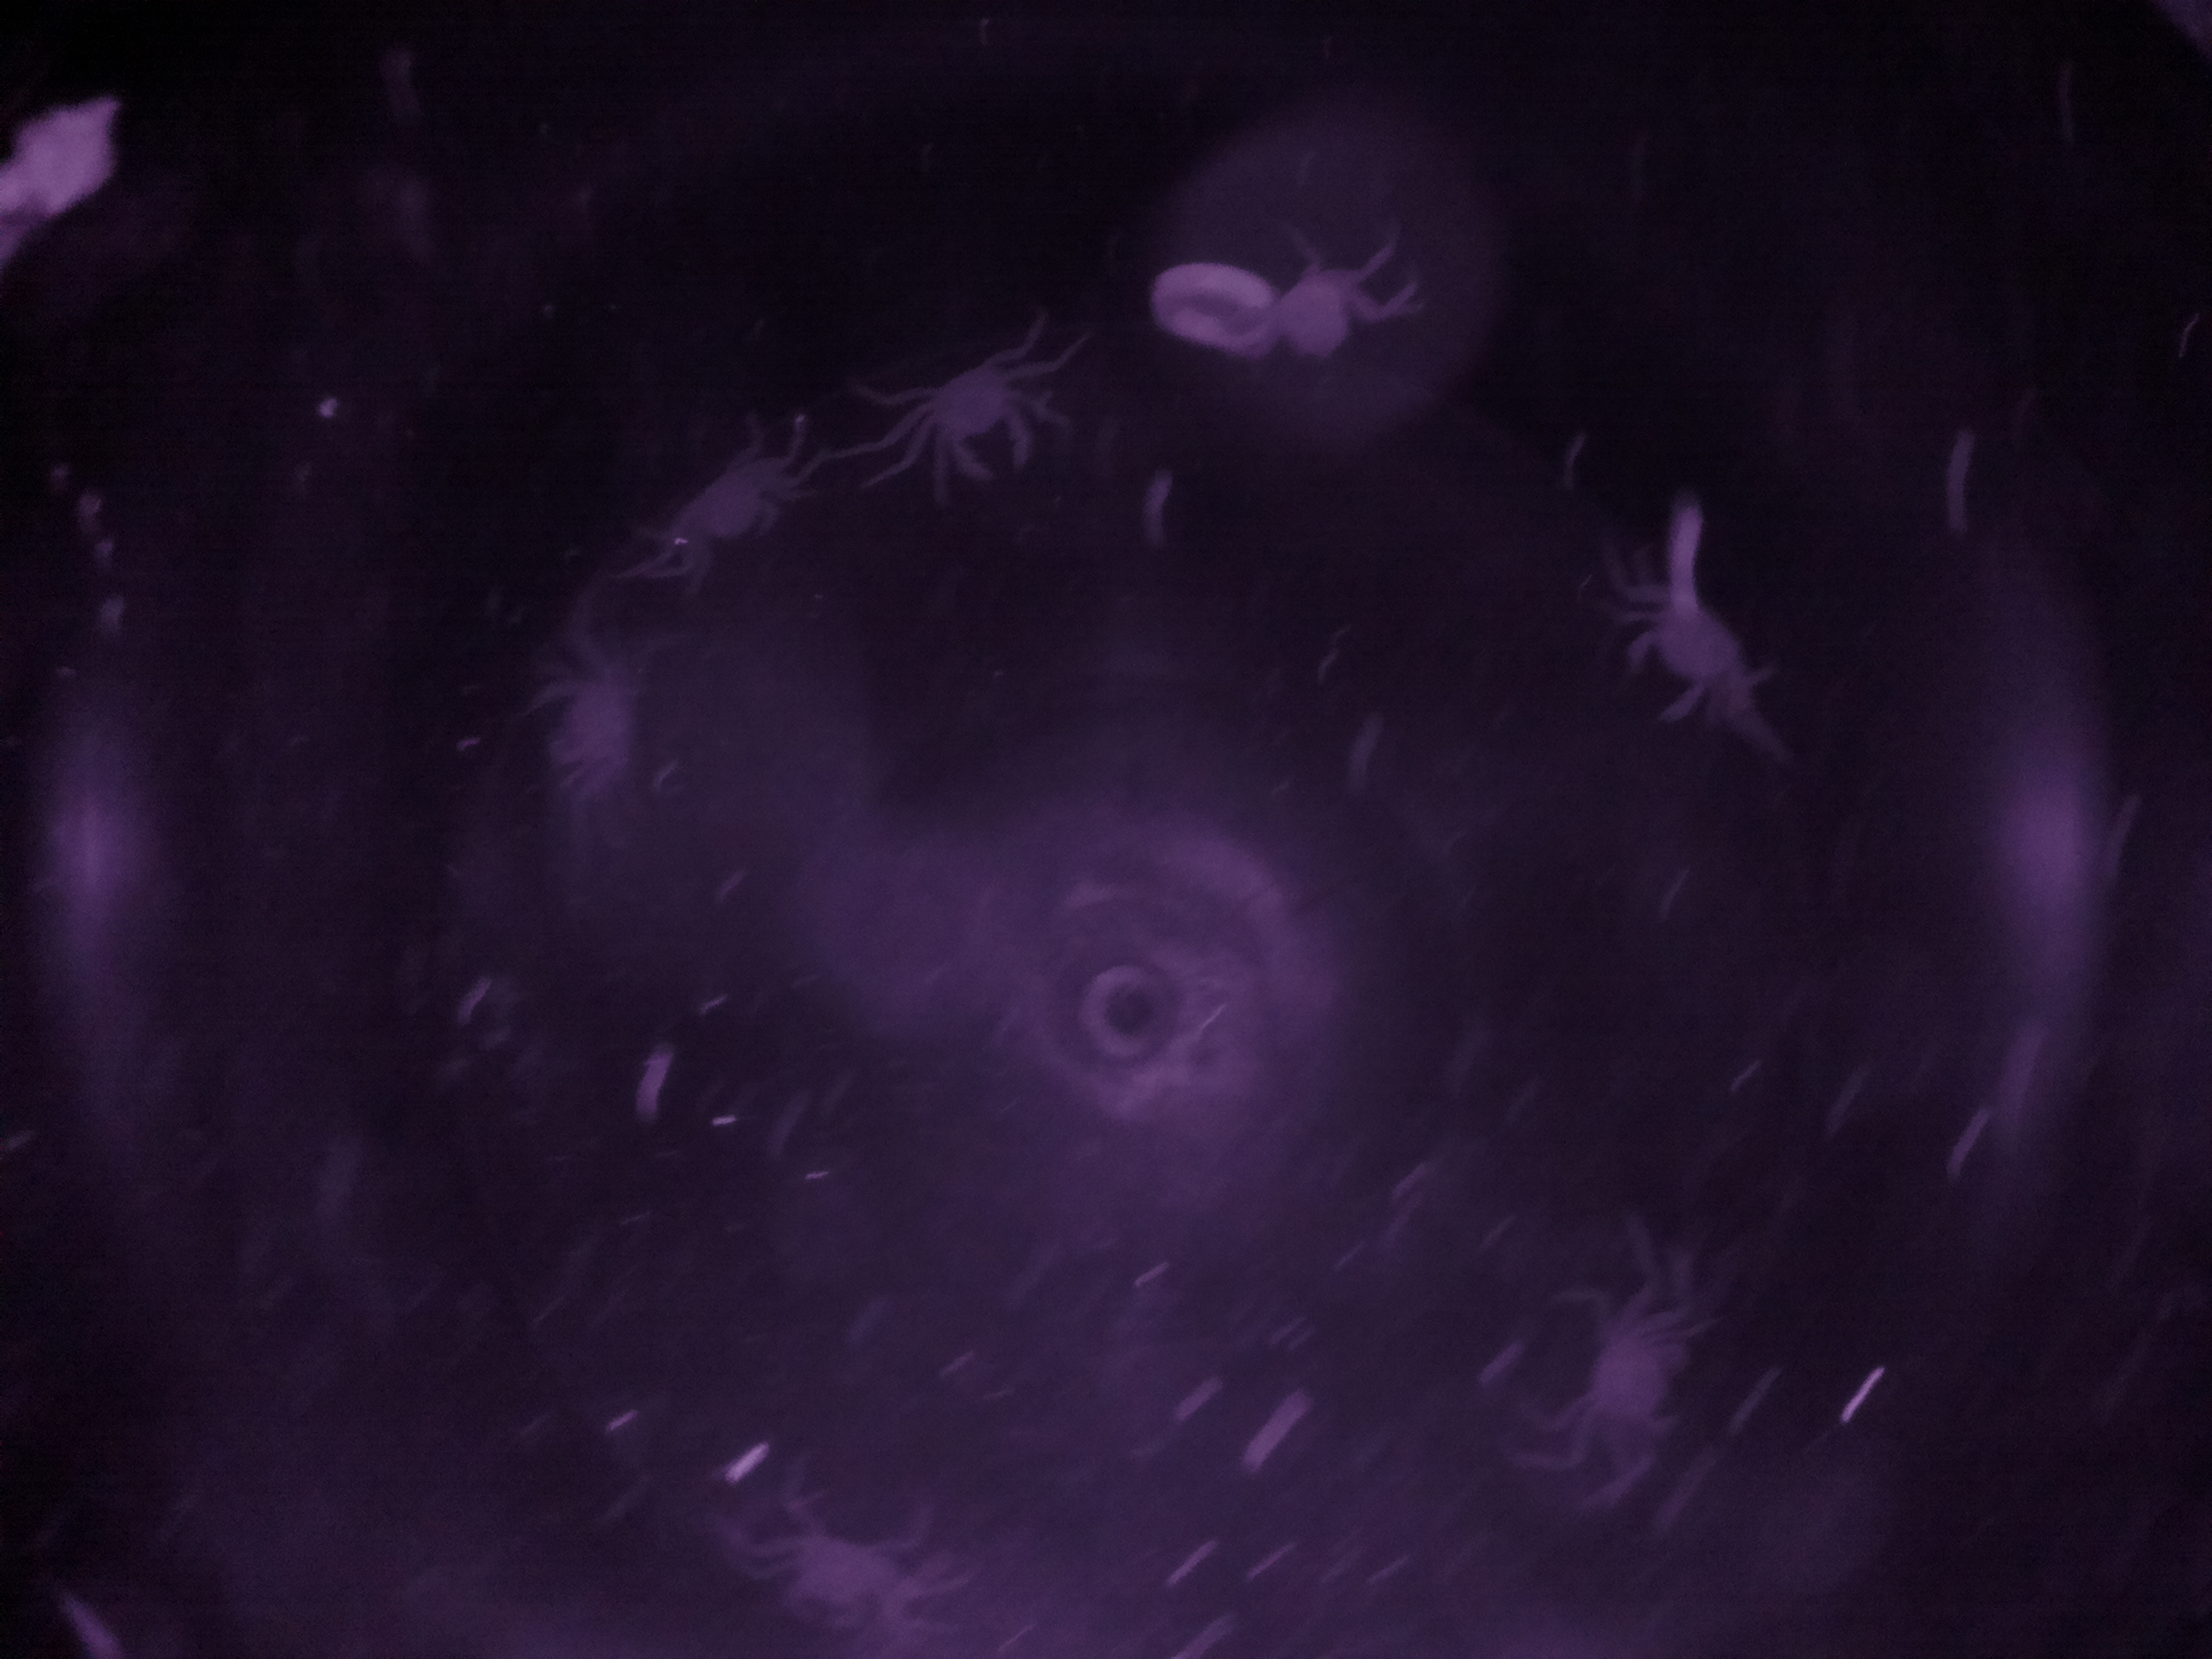Crab: (894, 331, 1061, 509)
